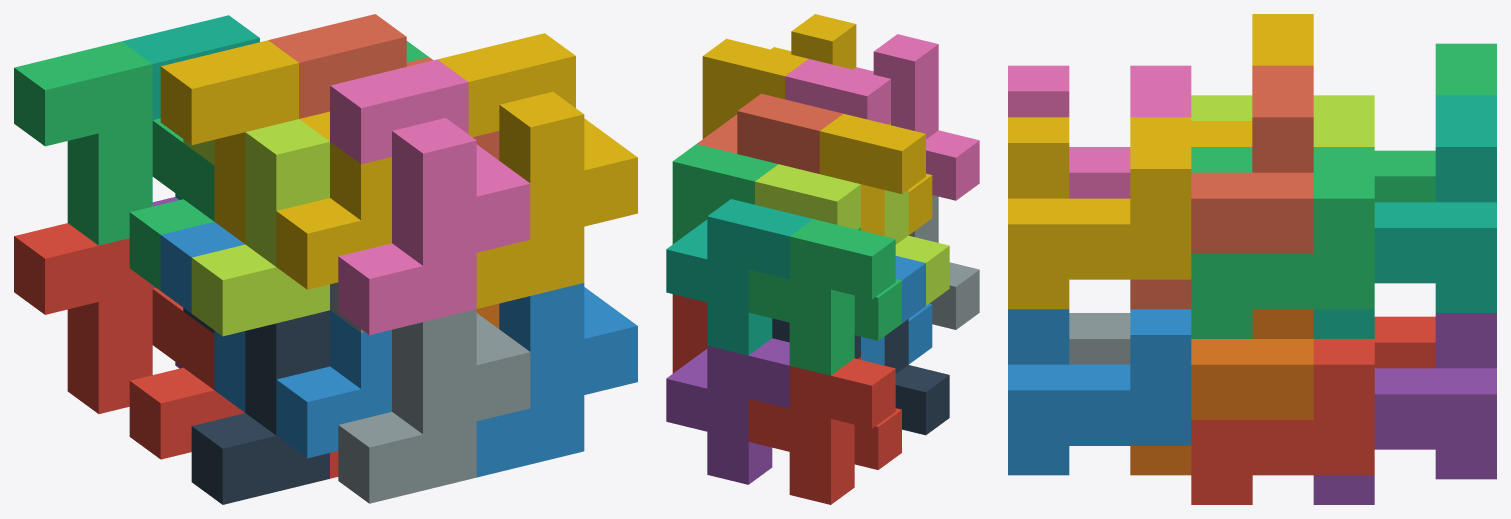
File: tiling.obj
3 renders of one model, left to right at view 1: azimuth 30°, elevation 25°; view 2: azimuth 150°, elevation 25°; view 3: azimuth 270°, elevation 25°, orthographic. The views are drawn at different scales.
Parts seen in each view (by area): view 1: copy_2_domain_4, copy_2_domain_8, copy_1_domain_1, copy_1_domain_3, copy_1_domain_4, copy_2_domain_2, copy_2_domain_6, copy_2_domain_3, copy_1_domain_2, copy_2_domain_1, copy_1_domain_8, copy_1_domain_7; view 2: copy_1_domain_3, copy_1_domain_1, copy_2_domain_4, copy_1_domain_7, copy_1_domain_5, copy_1_domain_4, copy_2_domain_8, copy_2_domain_3, copy_1_domain_8, copy_2_domain_7, copy_2_domain_1, copy_1_domain_2 (+2 smaller); view 3: copy_2_domain_8, copy_2_domain_6, copy_1_domain_7, copy_2_domain_7, copy_1_domain_8, copy_1_domain_5, copy_2_domain_5, copy_1_domain_6, copy_2_domain_4, copy_1_domain_3, copy_1_domain_4, copy_2_domain_3 (+2 smaller).
Part boxes in pixels (x1=…): copy_2_domain_4: x1=330, y1=59, x2=530, y2=334; copy_2_domain_8: x1=438, y1=33, x2=637, y2=308; copy_1_domain_1: x1=14, y1=223, x2=244, y2=459; copy_1_domain_3: x1=14, y1=41, x2=214, y2=290; copy_1_domain_4: x1=160, y1=40, x2=391, y2=289; copy_2_domain_2: x1=330, y1=282, x2=530, y2=503; copy_2_domain_6: x1=476, y1=283, x2=637, y2=477; copy_2_domain_3: x1=183, y1=119, x2=329, y2=336; copy_1_domain_2: x1=160, y1=222, x2=391, y2=458; copy_2_domain_1: x1=183, y1=308, x2=329, y2=504; copy_1_domain_8: x1=268, y1=14, x2=499, y2=160; copy_1_domain_7: x1=122, y1=15, x2=259, y2=199; copy_1_domain_3: x1=748, y1=219, x2=901, y2=375; copy_1_domain_1: x1=748, y1=357, x2=901, y2=504; copy_2_domain_4: x1=785, y1=34, x2=979, y2=200; copy_1_domain_7: x1=666, y1=199, x2=812, y2=355; copy_1_domain_5: x1=666, y1=338, x2=789, y2=484; copy_1_domain_4: x1=819, y1=113, x2=932, y2=236; copy_2_domain_8: x1=702, y1=14, x2=856, y2=138; copy_2_domain_3: x1=755, y1=164, x2=949, y2=305; copy_1_domain_8: x1=697, y1=93, x2=842, y2=173; copy_2_domain_7: x1=672, y1=144, x2=778, y2=244; copy_2_domain_1: x1=772, y1=318, x2=949, y2=435; copy_1_domain_2: x1=861, y1=256, x2=932, y2=365; copy_2_domain_8: x1=1008, y1=117, x2=1191, y2=309; copy_2_domain_6: x1=1008, y1=309, x2=1191, y2=475; copy_1_domain_7: x1=1313, y1=95, x2=1496, y2=338; copy_2_domain_7: x1=1191, y1=147, x2=1374, y2=338; copy_1_domain_8: x1=1130, y1=65, x2=1313, y2=309; copy_1_domain_5: x1=1313, y1=313, x2=1496, y2=504; copy_2_domain_5: x1=1191, y1=339, x2=1374, y2=504; copy_1_domain_6: x1=1130, y1=309, x2=1313, y2=475; copy_2_domain_4: x1=1008, y1=65, x2=1191, y2=198; copy_1_domain_3: x1=1374, y1=43, x2=1496, y2=202; copy_1_domain_4: x1=1191, y1=14, x2=1313, y2=146; copy_2_domain_3: x1=1191, y1=95, x2=1374, y2=146.
Size of the model in its own units: 7 by 7 by 8.
